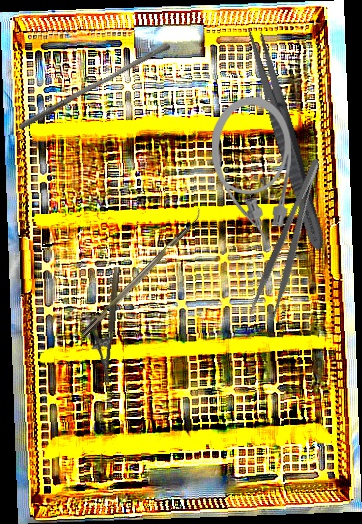Cannula: (212, 97, 291, 251)
Chopper: (75, 206, 207, 337)
Dressing Forceps: (240, 23, 331, 253), (245, 156, 338, 324)
Needle Holder: (85, 265, 122, 385)
Pusher: (17, 36, 172, 137)
